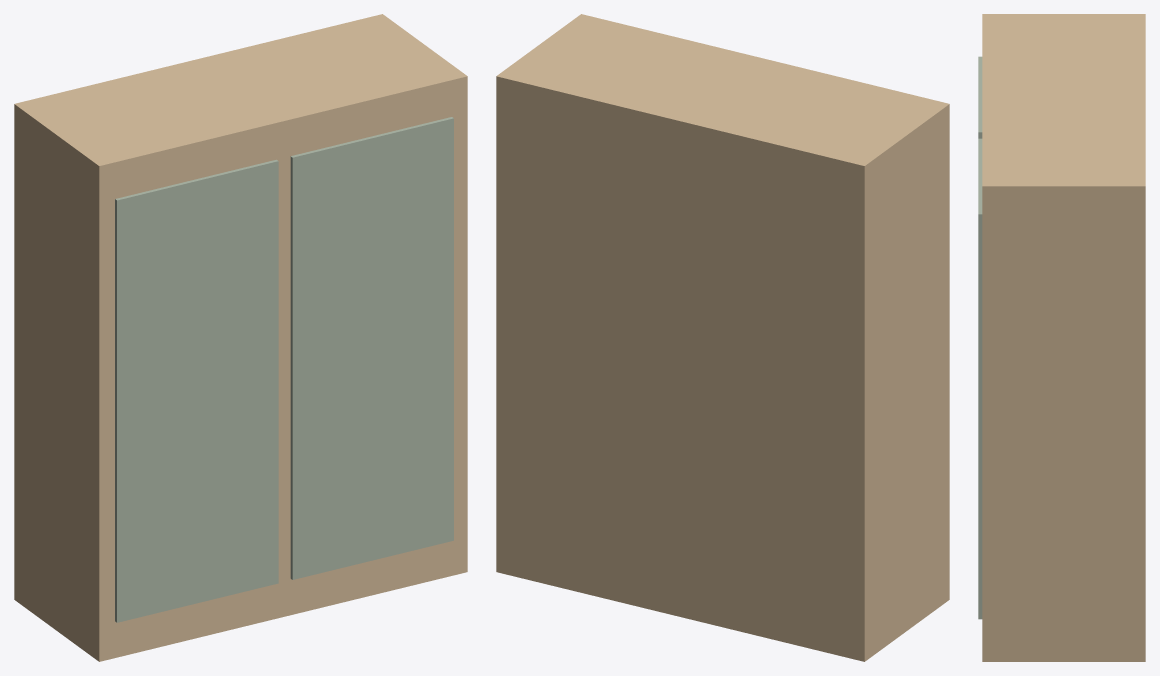
The model's file is teach-cab.glb.
3 views of the same model, side by side, from view 1: azimuth 30°, elevation 25°; view 2: azimuth 150°, elevation 25°; view 3: azimuth 270°, elevation 25° (orthographic). The views are drawn at different scales.
Parts seen in each view (by area): view 1: root; view 2: root; view 3: root.
Part boxes in pixels (x1=…): root: x1=14, y1=14, x2=467, y2=661; root: x1=496, y1=14, x2=949, y2=661; root: x1=978, y1=14, x2=1145, y2=661.
Size of the model in its own units: 1.05 by 1.35 by 0.43.
